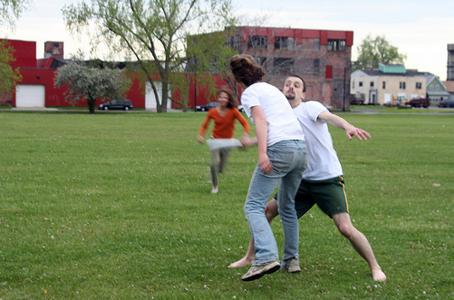person: (227, 54, 308, 282)
